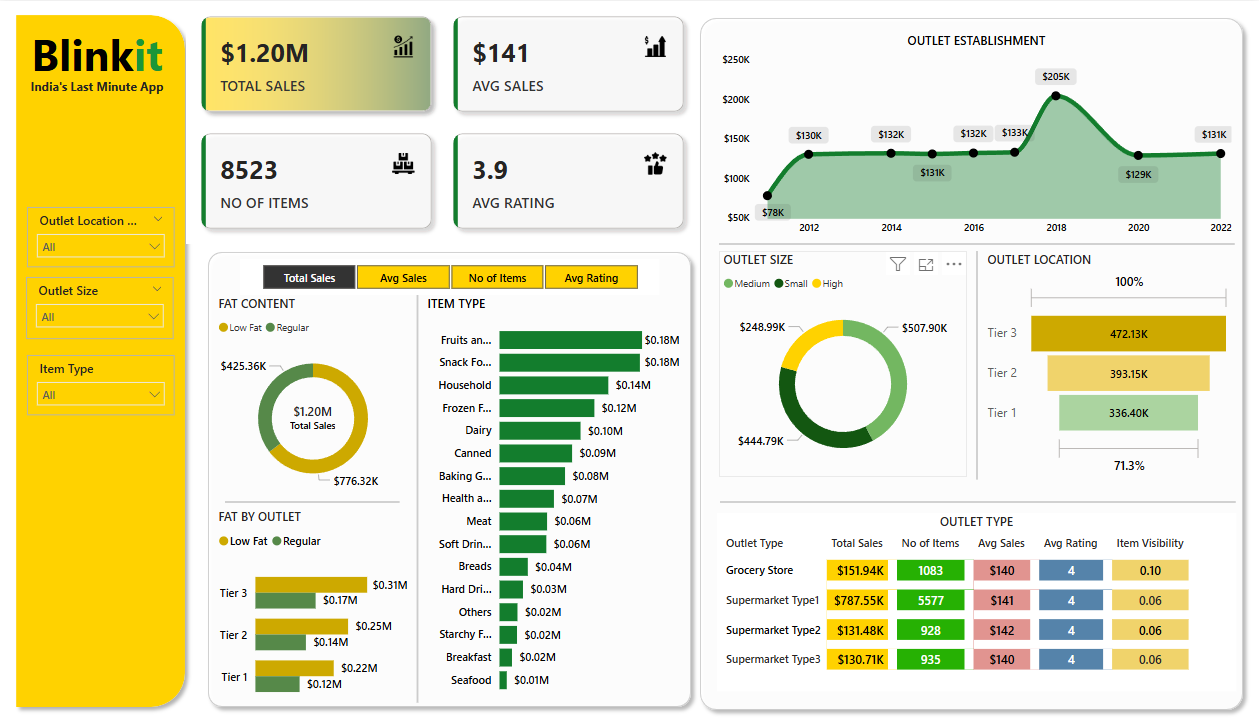

What the dashboard file says about the page in this screenshot:
{"tool":"powerbi","page":{"name":"Page 1","canvas":[1400,800],"ordinal":0},"visuals":[{"type":"shape","box":[10,6.7,205.6,786.7],"z":0},{"type":"textbox","box":[23.3,21.1,171.1,76.7],"z":1000},{"type":"textbox","box":[30,81.1,164.4,53.3],"z":2000},{"type":"cardVisual","fields":{"Data":["BlinkIT Grocery Data.Total Sales","BlinkIT Grocery Data.Avg Sales","BlinkIT Grocery Data.No of Items","BlinkIT Grocery Data.Avg Rating"]},"box":[207.8,0,570,270],"z":3000},{"type":"shape","box":[223.3,270,554.4,523.3],"z":4000},{"type":"donutChart","title":"FAT CONTENT","fields":{"Y":["BlinkIT Grocery Data.Avg Rating"],"Category":["BlinkIT Grocery Data.Item Fat Content"]},"box":[238.9,326.7,220,230],"z":5000},{"type":"slicer","fields":{"Values":["Metrics.Metrics"]},"box":[267.8,286.7,465.6,40],"z":6000},{"type":"cardVisual","fields":{"Data":["BlinkIT Grocery Data.Avg Rating"]},"box":[304.4,430,88.9,60],"z":7000},{"type":"clusteredBarChart","title":"FAT BY OUTLET","fields":{"Y":["BlinkIT Grocery Data.Avg Rating"],"Category":["BlinkIT Grocery Data.Outlet Location Type"],"Series":["BlinkIT Grocery Data.Item Fat Content"]},"box":[238.9,563.3,220,230],"z":8000},{"type":"shape","box":[251.1,548.9,194.4,15.6],"z":9000},{"type":"shape","box":[458.9,326.7,12.2,453.3],"z":10000},{"type":"barChart","title":"ITEM TYPE","fields":{"Y":["BlinkIT Grocery Data.Avg Rating"],"Category":["BlinkIT Grocery Data.Item Type"]},"box":[471.1,326.7,290,453.3],"z":11000},{"type":"shape","box":[770,10,621.1,786.7],"z":12000},{"type":"lineChart","title":"OUTLET ESTABLISHMENT","fields":{"Y":["BlinkIT Grocery Data.Total Sales"],"Category":["BlinkIT Grocery Data.Outlet Establishment Year"]},"box":[797.8,34.4,576.7,235.6],"z":13000},{"type":"shape","box":[800,262.2,573.3,15.6],"z":14000},{"type":"shape","box":[1077.8,277.8,17.8,254.4],"z":15000},{"type":"shape","box":[801.1,544.4,573.3,24.4],"z":16000},{"type":"donutChart","title":"OUTLET SIZE","fields":{"Y":["BlinkIT Grocery Data.Total Sales"],"Category":["BlinkIT Grocery Data.Outlet Size"]},"box":[800,277.8,275.6,251.1],"z":16001},{"type":"funnel","title":"OUTLET LOCATION","fields":{"Y":["Sum(BlinkIT Grocery Data.Sales)"],"Category":["BlinkIT Grocery Data.Outlet Location Type"]},"box":[1093.3,277.8,280,254.4],"z":16002},{"type":"pivotTable","title":"OUTLET TYPE","fields":{"Rows":["BlinkIT Grocery Data.Outlet Type"],"Values":["BlinkIT Grocery Data.Total Sales","BlinkIT Grocery Data.No of Items","BlinkIT Grocery Data.Avg Sales","BlinkIT Grocery Data.Avg Rating","Avg(BlinkIT Grocery Data.Item Visibility)"]},"box":[797.8,568.9,576.7,197.8],"z":16003},{"type":"slicer","fields":{"Values":["BlinkIT Grocery Data.Outlet Location Type"]},"box":[31.1,228.9,164.4,66.7],"z":16004},{"type":"slicer","fields":{"Values":["BlinkIT Grocery Data.Outlet Size"]},"box":[30,306.7,164.4,68.9],"z":16005},{"type":"slicer","fields":{"Values":["BlinkIT Grocery Data.Item Type"]},"box":[31.1,393.3,164.4,66.7],"z":16006}]}

Visuals, with their boxes in screenshot pixels (x1, y1, x2, y2), scaled from the page's 1400x800 canvas onto the 1259x721 screenshot:
shape: [9,6,194,715]
textbox: [21,19,175,88]
textbox: [27,73,175,121]
cardVisual - BlinkIT Grocery Data.Total Sales x BlinkIT Grocery Data.Avg Sales: [187,0,699,243]
shape: [201,243,699,715]
"FAT CONTENT" donutChart: [215,294,413,502]
slicer - Metrics.Metrics: [241,258,660,294]
cardVisual - BlinkIT Grocery Data.Avg Rating: [274,388,354,442]
"FAT BY OUTLET" clusteredBarChart: [215,508,413,715]
shape: [226,495,401,509]
shape: [413,294,424,703]
"ITEM TYPE" barChart: [424,294,684,703]
shape: [692,9,1251,718]
"OUTLET ESTABLISHMENT" lineChart: [717,31,1236,243]
shape: [719,236,1235,250]
shape: [969,250,985,480]
shape: [720,491,1236,513]
"OUTLET SIZE" donutChart: [719,250,967,477]
"OUTLET LOCATION" funnel: [983,250,1235,480]
"OUTLET TYPE" pivotTable: [717,513,1236,691]
slicer - BlinkIT Grocery Data.Outlet Location Type: [28,206,176,266]
slicer - BlinkIT Grocery Data.Outlet Size: [27,276,175,339]
slicer - BlinkIT Grocery Data.Item Type: [28,354,176,415]
